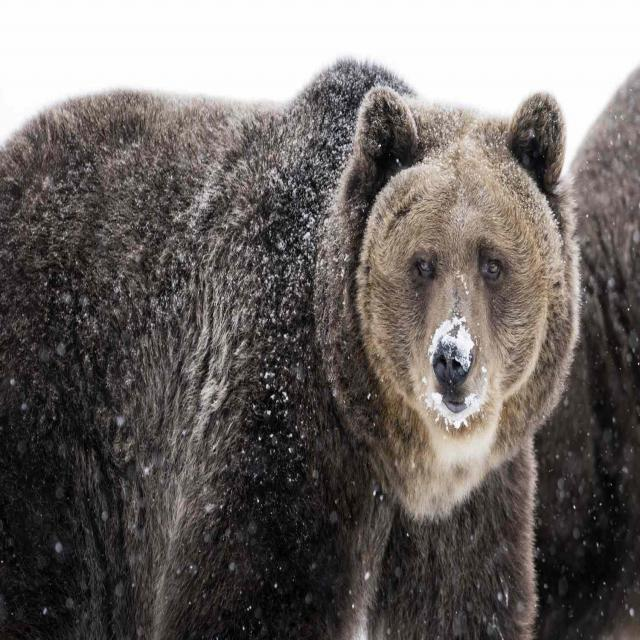Bear: (0, 61, 576, 640), (530, 61, 640, 640)
